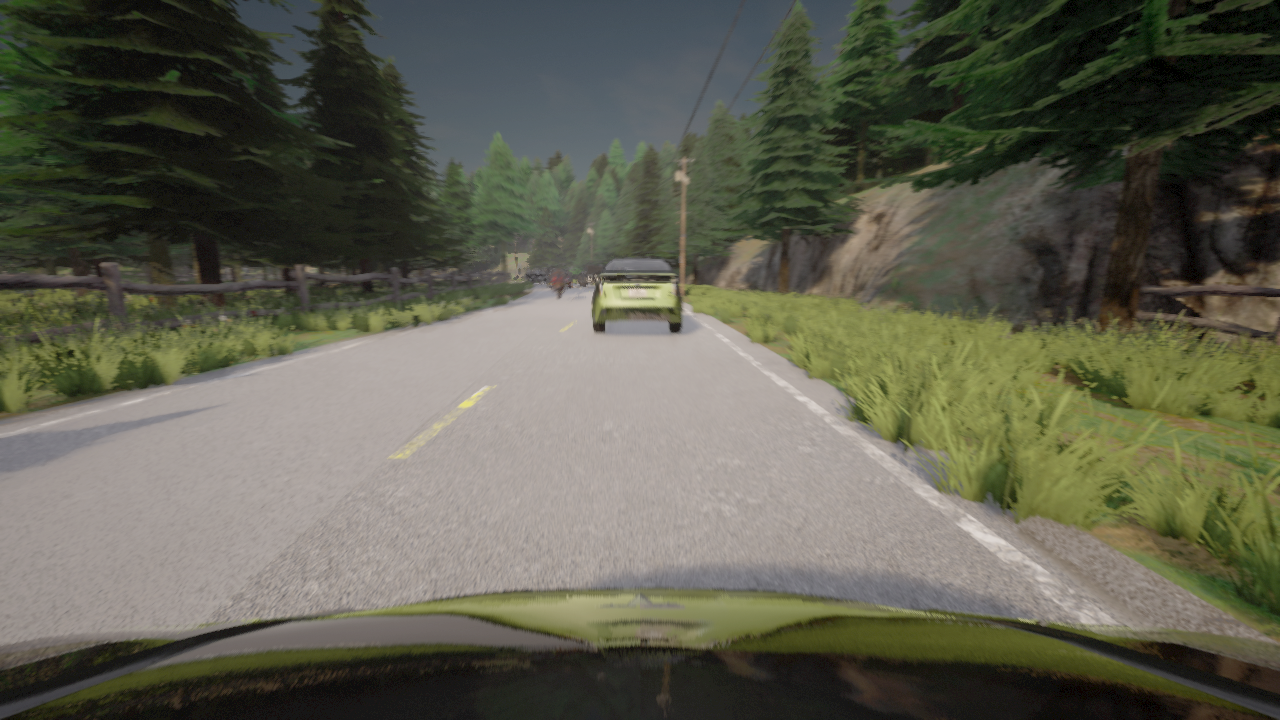cyclist: (0, 588, 1279, 719), (591, 258, 682, 333), (578, 265, 602, 287), (547, 268, 571, 289), (549, 274, 566, 300), (524, 270, 547, 283)
